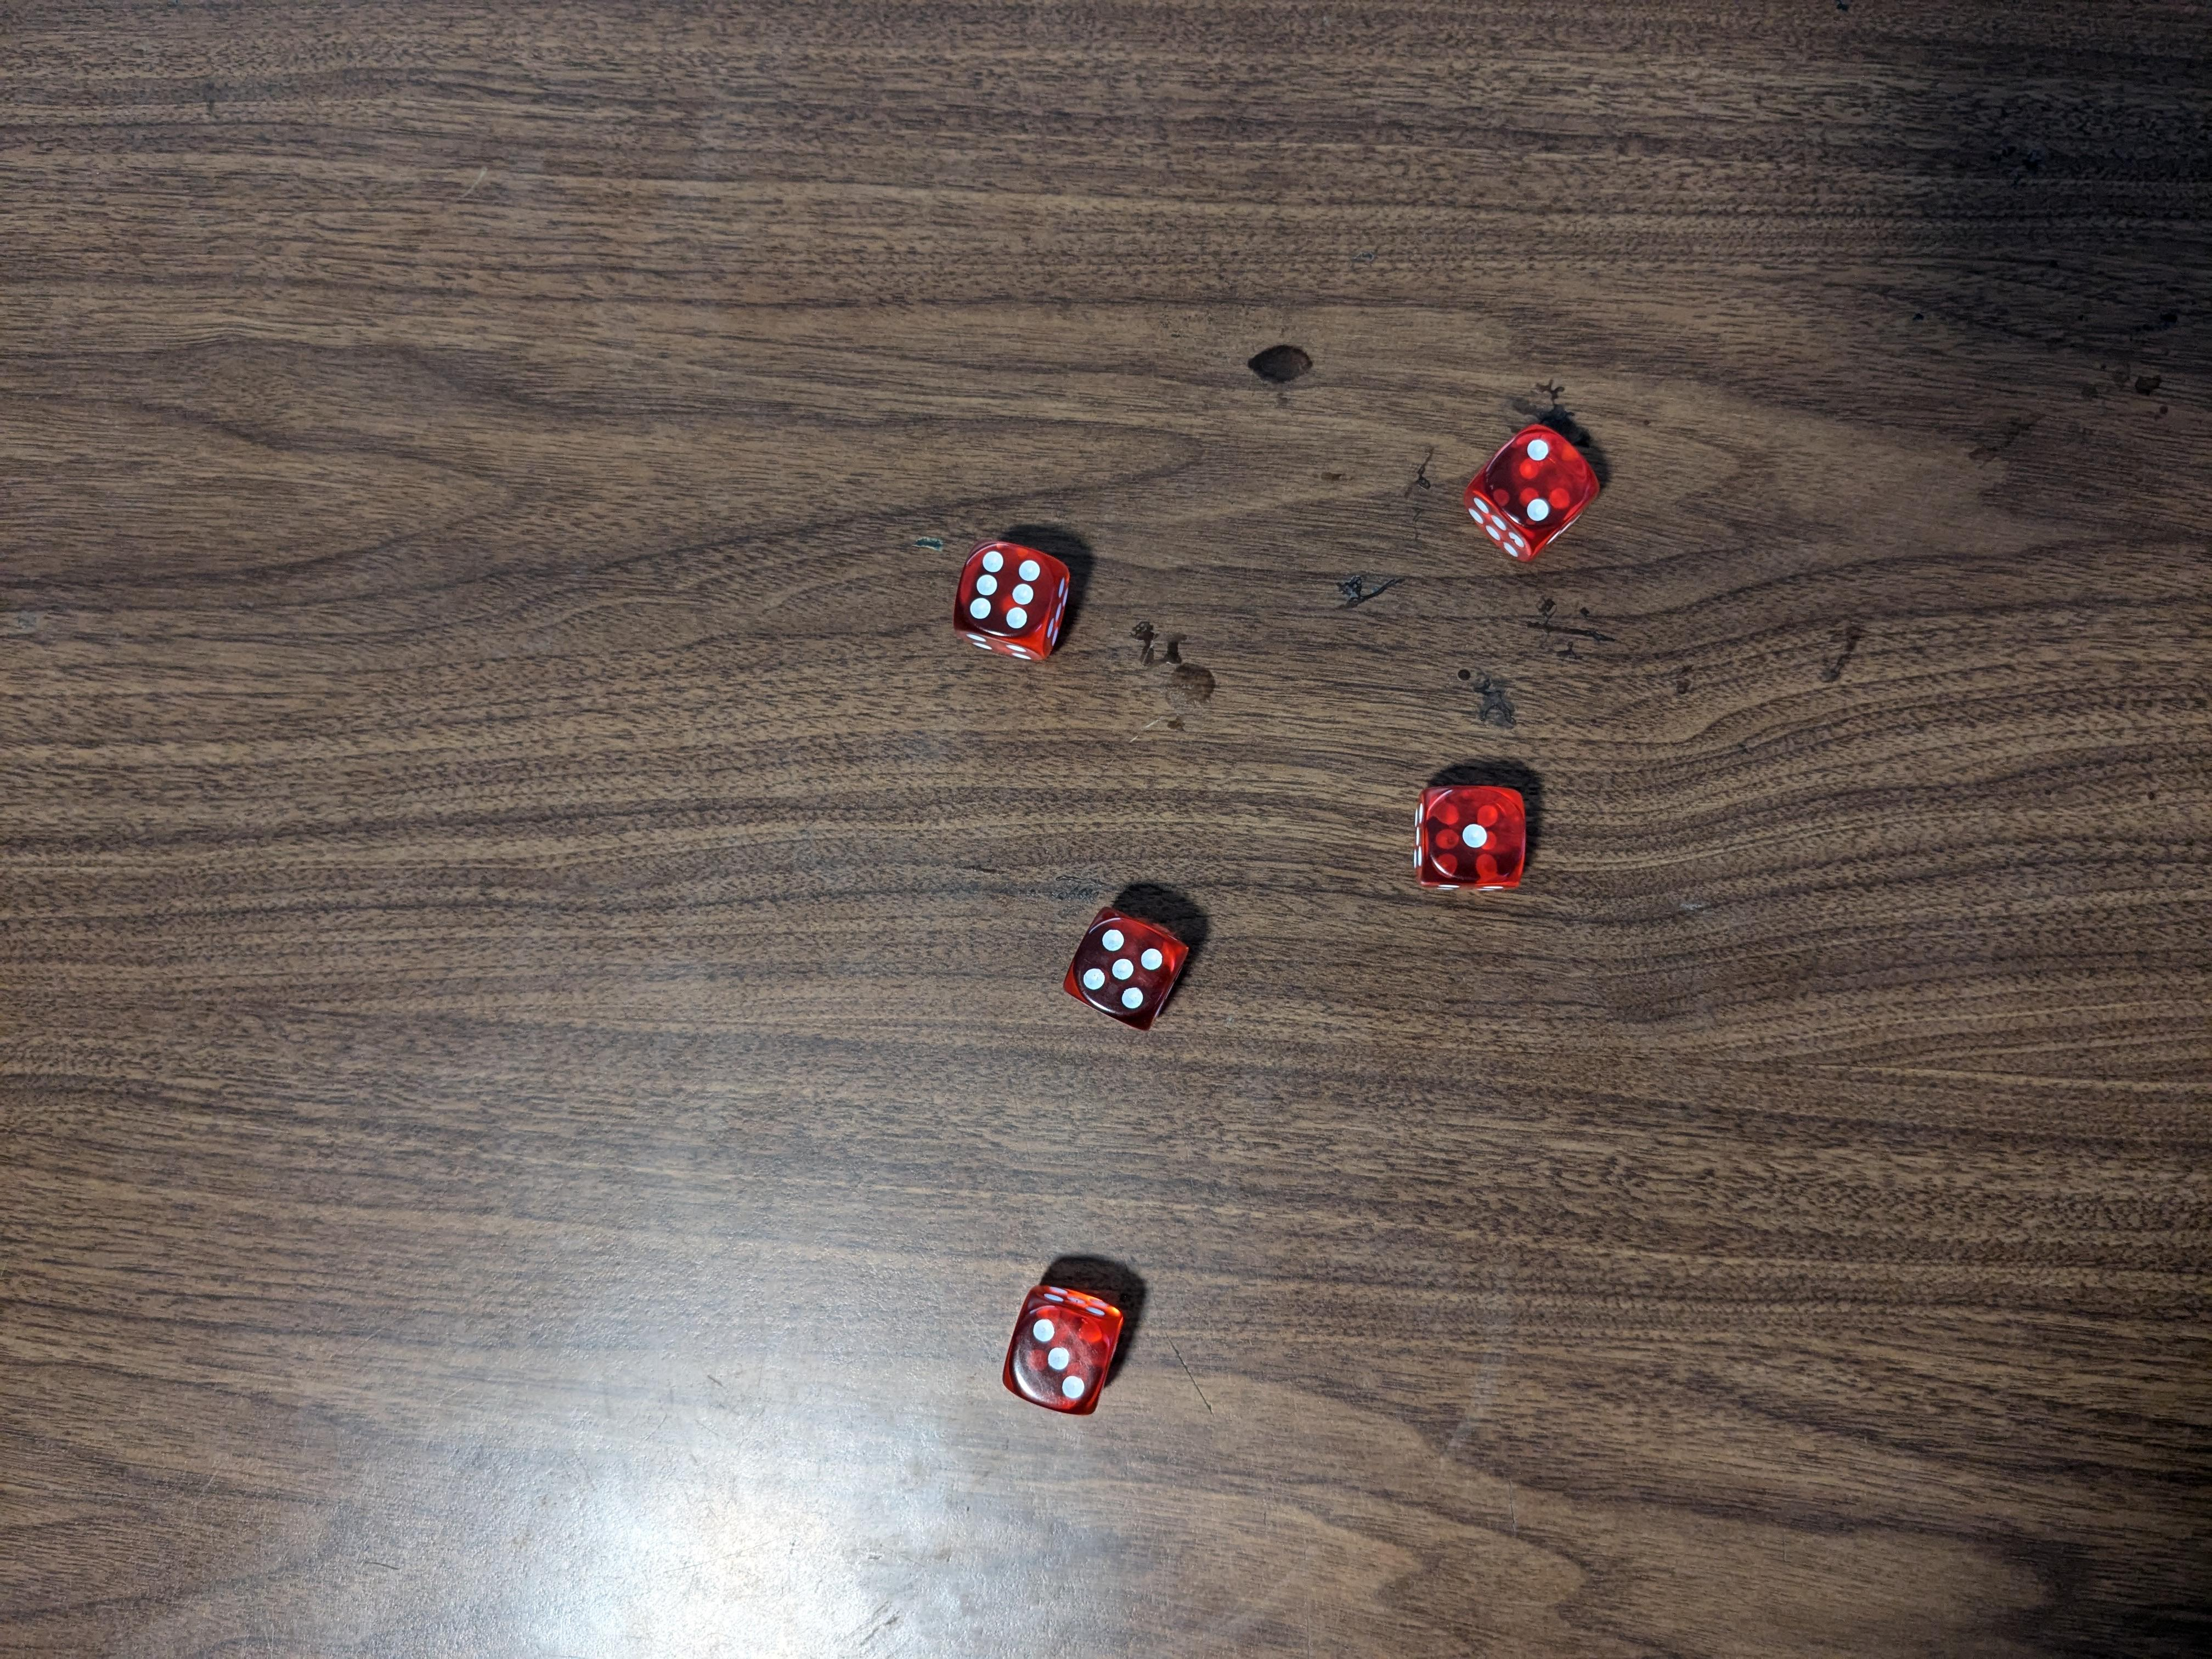five: (1061, 908, 1204, 1030)
one: (1413, 779, 1538, 892)
six: (956, 538, 1075, 662)
three: (1003, 1283, 1122, 1417)
two: (1470, 418, 1599, 552)
